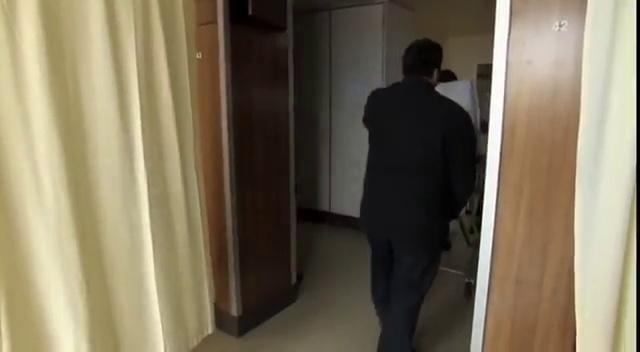patient: (358, 36, 478, 351)
